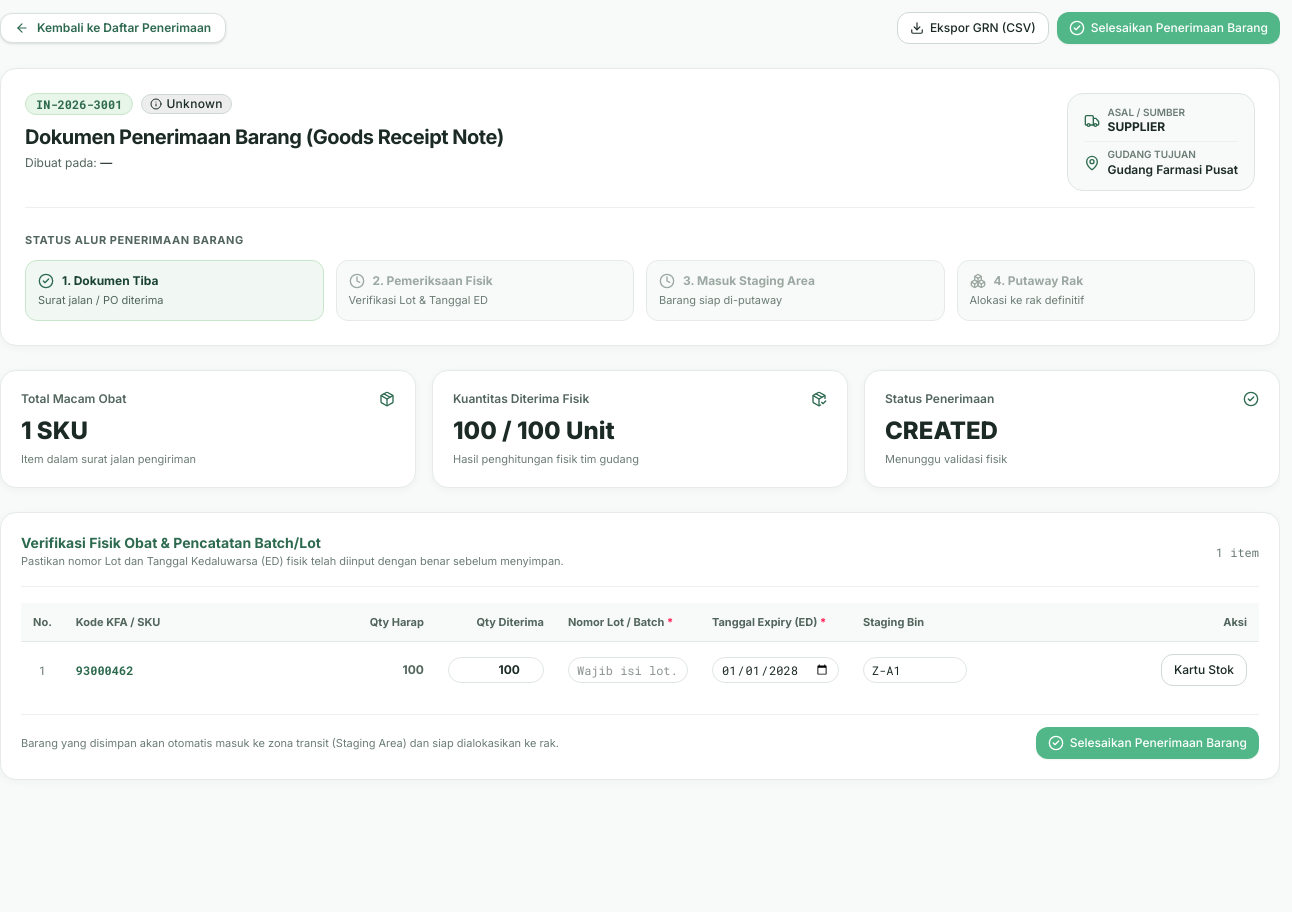
Test: InboundReceiving › blocks commit when lot is empty
Expected: the number field named "diterima" is shown, [448, 658, 544, 684]
Click the button "Selesaikan Penerimaan Barang" in the row of "Kembali ke Daftar Penerimaan".
click(1168, 28)  # box [1057, 12, 1280, 44]
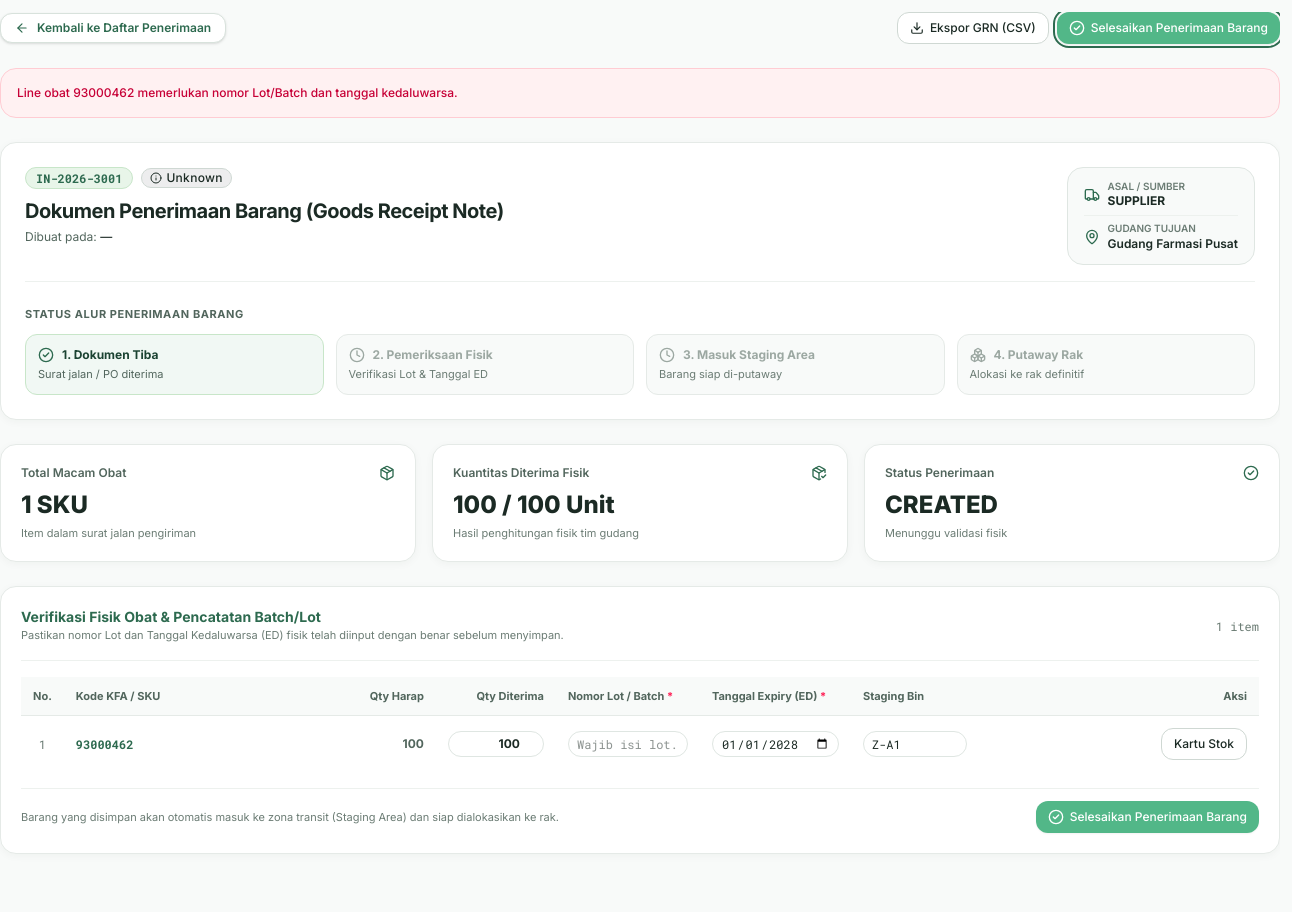
Expected: the message "Line obat 93000462 memerlukan nomor Lot/Batch dan tanggal kedaluwarsa." is shown, [0, 68, 1280, 118]
